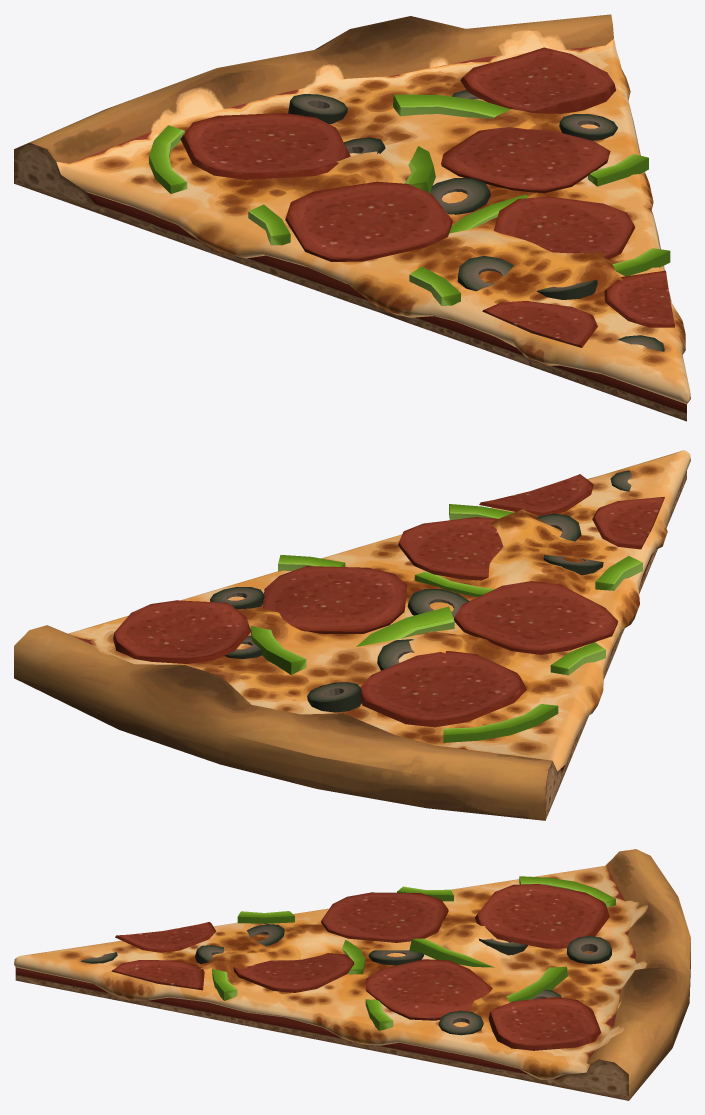
Rendered from pizza.glb.
3 renders of one model, top to bottom at view 1: azimuth 30°, elevation 25°; view 2: azimuth 150°, elevation 25°; view 3: azimuth 270°, elevation 25°, orthographic. The views are drawn at different scales.
Visible parts, largest first — view 1: pizza_supreme_slice_whole; view 2: pizza_supreme_slice_whole; view 3: pizza_supreme_slice_whole.
Boxes of the visible parts, x1,y1,x2,y2 form: pizza_supreme_slice_whole: [14, 14, 690, 421]; pizza_supreme_slice_whole: [14, 450, 690, 820]; pizza_supreme_slice_whole: [14, 849, 690, 1100].
Size of the model in its own units: 0.1765 by 0.0179 by 0.231.
Materials: 1 (1 with a texture image).
